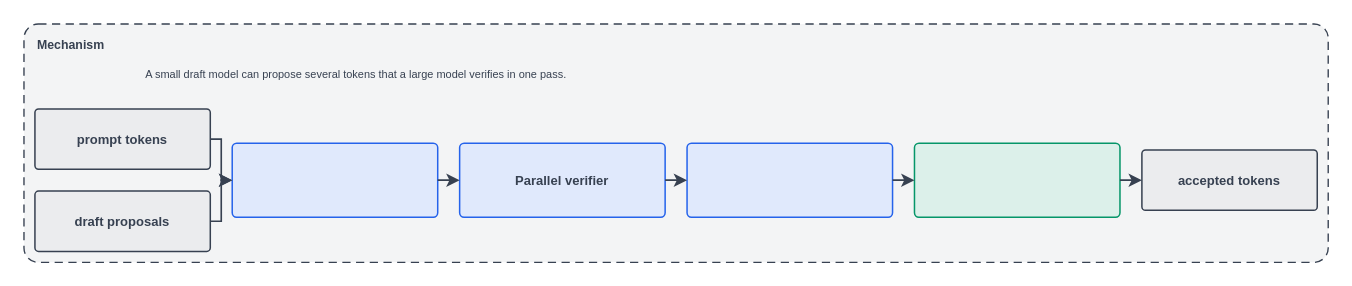
This 1352x286 diagram has some shape labels left out. Here are the shapes that lost their labels. From the top down, the box of each, then its label:
(231, 142, 438, 217): Draft model
(686, 142, 893, 217): Prefix acceptor
(913, 142, 1120, 217): Resampler
